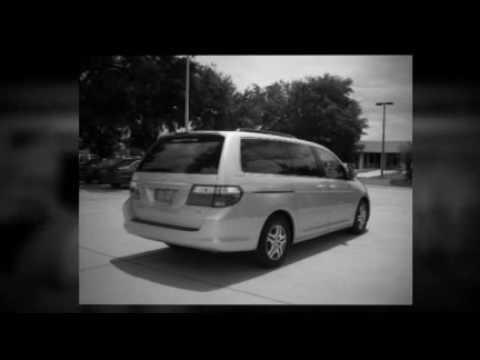car: (124, 130, 372, 269)
